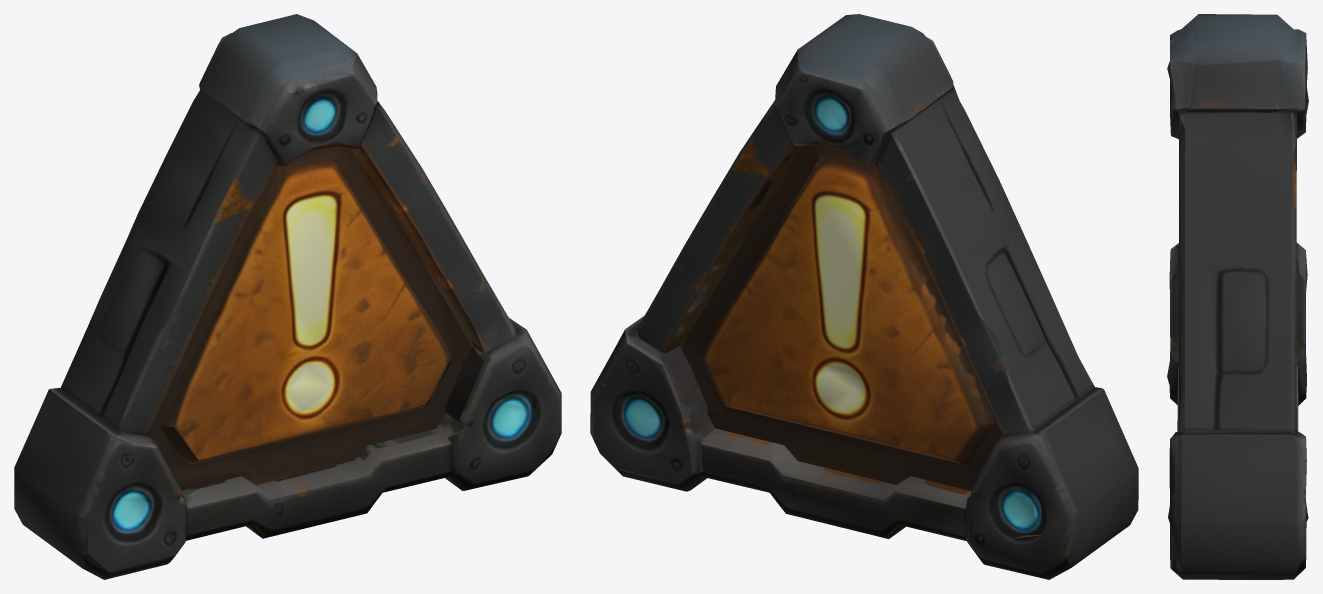
File: Obs7.fbx
3 views of the same model, side by side, from view 1: azimuth 30°, elevation 25°; view 2: azimuth 150°, elevation 25°; view 3: azimuth 270°, elevation 25° (orthographic). The views are drawn at different scales.
Parts seen in each view (by area): view 1: tmpom0gsqvr.ply; view 2: tmpom0gsqvr.ply; view 3: tmpom0gsqvr.ply.
Boxes of the visible parts, left/top/right/bottom form: tmpom0gsqvr.ply: left=14, top=14, right=561, bottom=579; tmpom0gsqvr.ply: left=590, top=14, right=1138, bottom=579; tmpom0gsqvr.ply: left=1167, top=14, right=1308, bottom=579.
Size of the model in its own units: 199 by 183 by 52.1.
1 material, 1 textured.
